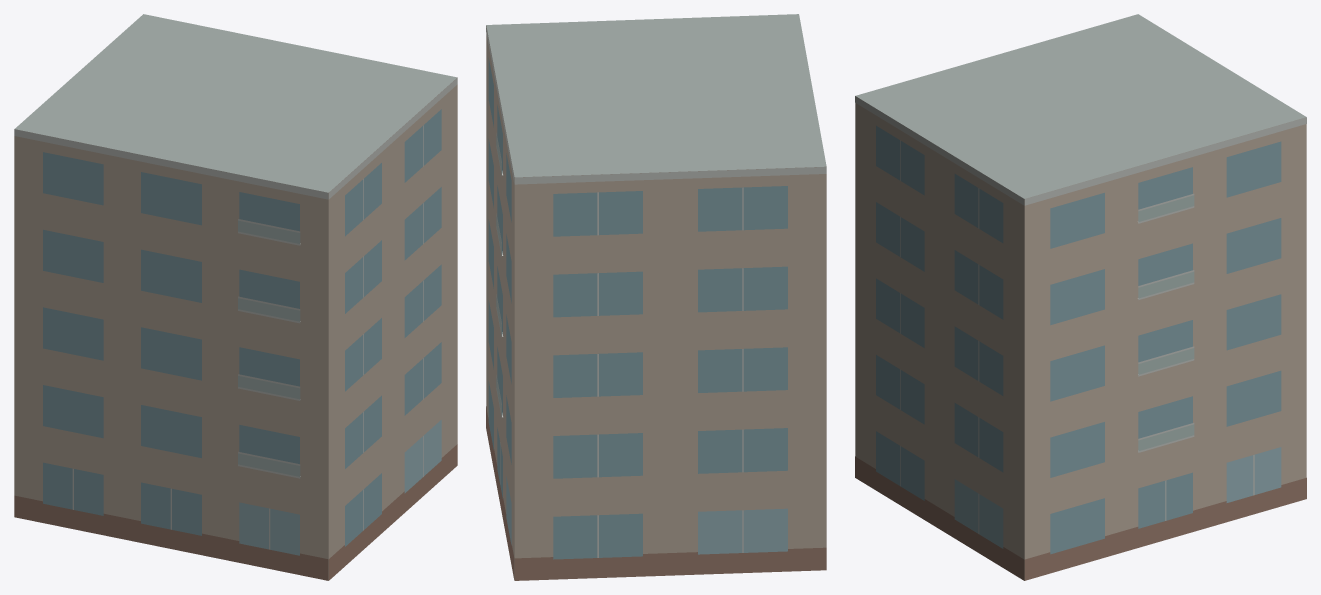
File: survey-upis-33003594.glb
3 views of the same model, side by side, from view 1: azimuth 30°, elevation 25°; view 2: azimuth 150°, elevation 25°; view 3: azimuth 270°, elevation 25° (orthographic). The views are drawn at different scales.
Visible parts, largest first — view 1: survey-upis-33003594.tmp; view 2: survey-upis-33003594.tmp; view 3: survey-upis-33003594.tmp.
Part boxes in pixels (<box>): survey-upis-33003594.tmp: <box>14,14,457,580</box>; survey-upis-33003594.tmp: <box>486,14,826,580</box>; survey-upis-33003594.tmp: <box>855,14,1306,580</box>.
Bounding box in the file's own units: 14.24 × 13.7 × 14.69.
